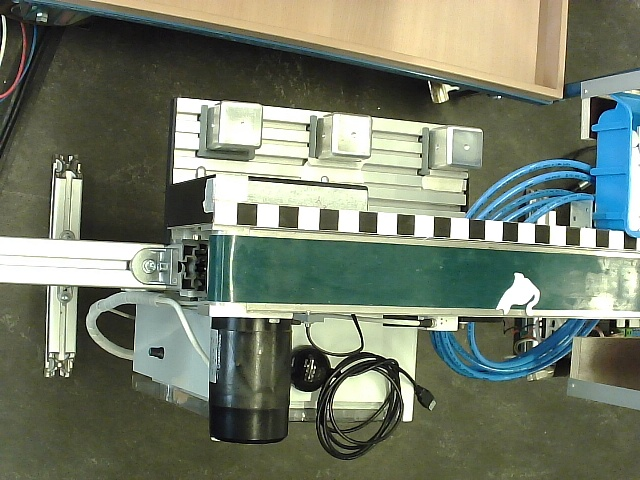cat: (495, 272, 541, 317)
